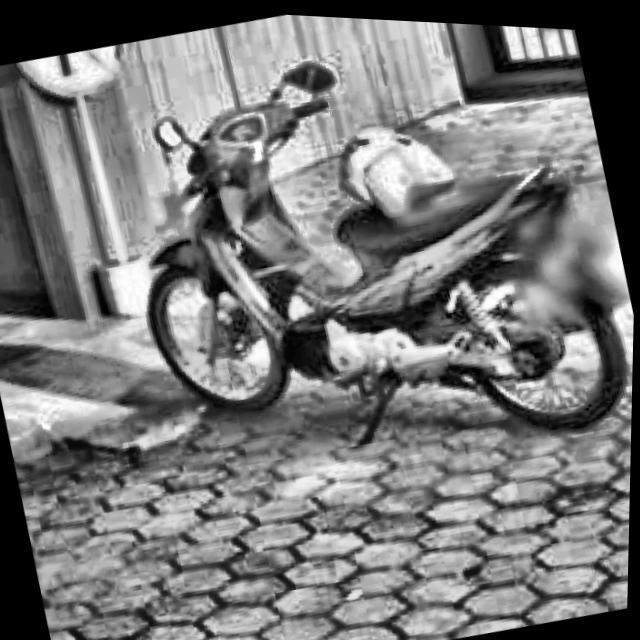motorcycle: (74, 3, 640, 538)
